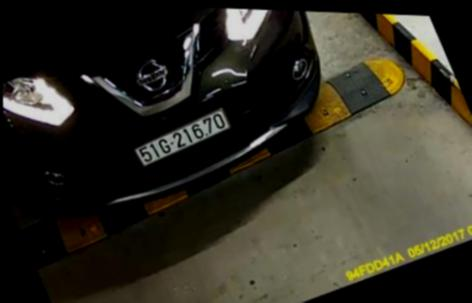License_Plate: (129, 102, 231, 176)
